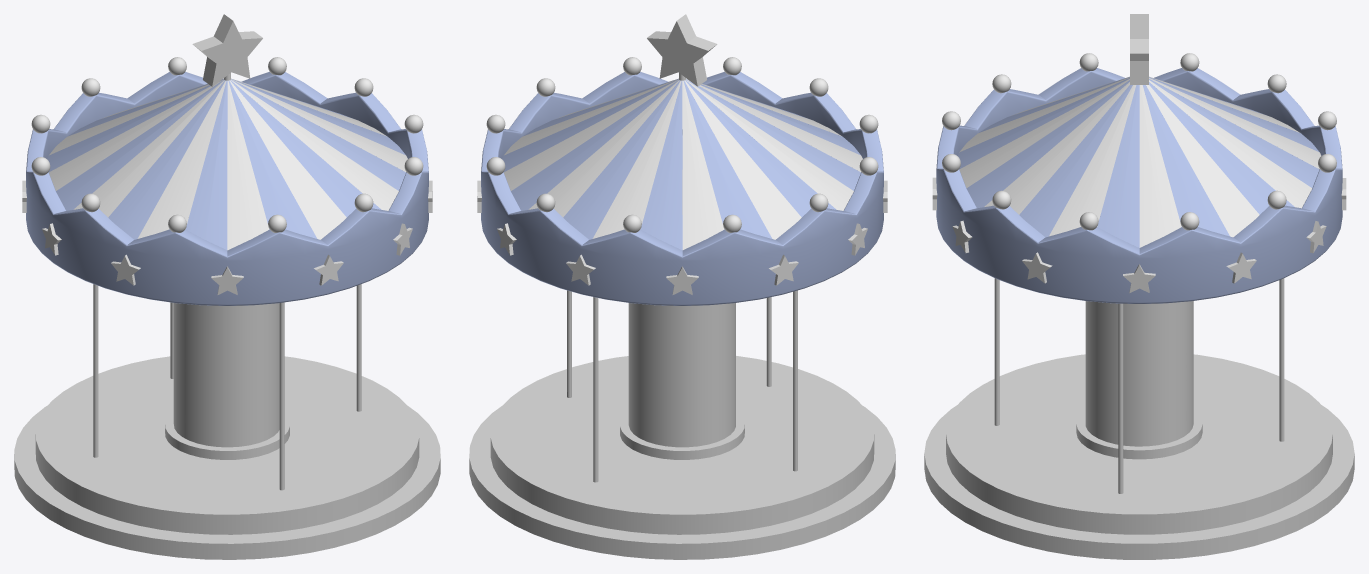
Rendered from Carnival.glb.
3 views of the same model, side by side, from view 1: azimuth 30°, elevation 25°; view 2: azimuth 150°, elevation 25°; view 3: azimuth 270°, elevation 25° (orthographic).
Parts seen in each view (by area): view 1: Cylinder.028, Cylinder.022, Cylinder.063, Cylinder.019, Star, Cylinder.004, Cylinder.062, Cylinder.065, Cylinder.058; view 2: Cylinder.028, Cylinder.022, Cylinder.063, Cylinder.019, Star, Cylinder.004, Cylinder.059, Cylinder.065, Cylinder.062, Cylinder.058; view 3: Cylinder.028, Cylinder.022, Cylinder.063, Cylinder.019, Cylinder.004, Star, Cylinder.058, Cylinder.059, Cylinder.062.
Boxes of the visible parts, <box> form: Cylinder.028: <box>22,57,432,305</box>; Cylinder.022: <box>35,356,419,534</box>; Cylinder.063: <box>173,303,279,447</box>; Cylinder.019: <box>14,405,440,559</box>; Star: <box>192,14,262,86</box>; Cylinder.004: <box>165,411,289,459</box>; Cylinder.062: <box>279,302,284,490</box>; Cylinder.065: <box>93,284,98,457</box>; Cylinder.058: <box>356,284,361,411</box>; Cylinder.028: <box>477,57,887,305</box>; Cylinder.022: <box>490,356,874,534</box>; Cylinder.063: <box>628,170,735,447</box>; Cylinder.019: <box>469,405,895,559</box>; Star: <box>647,14,717,86</box>; Cylinder.004: <box>620,411,744,459</box>; Cylinder.059: <box>593,297,598,482</box>; Cylinder.065: <box>793,290,797,471</box>; Cylinder.062: <box>766,297,771,386</box>; Cylinder.058: <box>567,290,571,397</box>; Cylinder.028: <box>932,53,1346,303</box>; Cylinder.022: <box>946,354,1332,534</box>; Cylinder.063: <box>1085,301,1193,446</box>; Cylinder.019: <box>924,405,1354,559</box>; Cylinder.004: <box>1076,410,1202,459</box>; Star: <box>1130,14,1148,84</box>; Cylinder.058: <box>1118,303,1123,493</box>; Cylinder.059: <box>1279,278,1284,441</box>; Cylinder.062: <box>994,278,999,425</box>.
Bounding box in the file's own units: 1.8 × 2.1 × 1.8.
